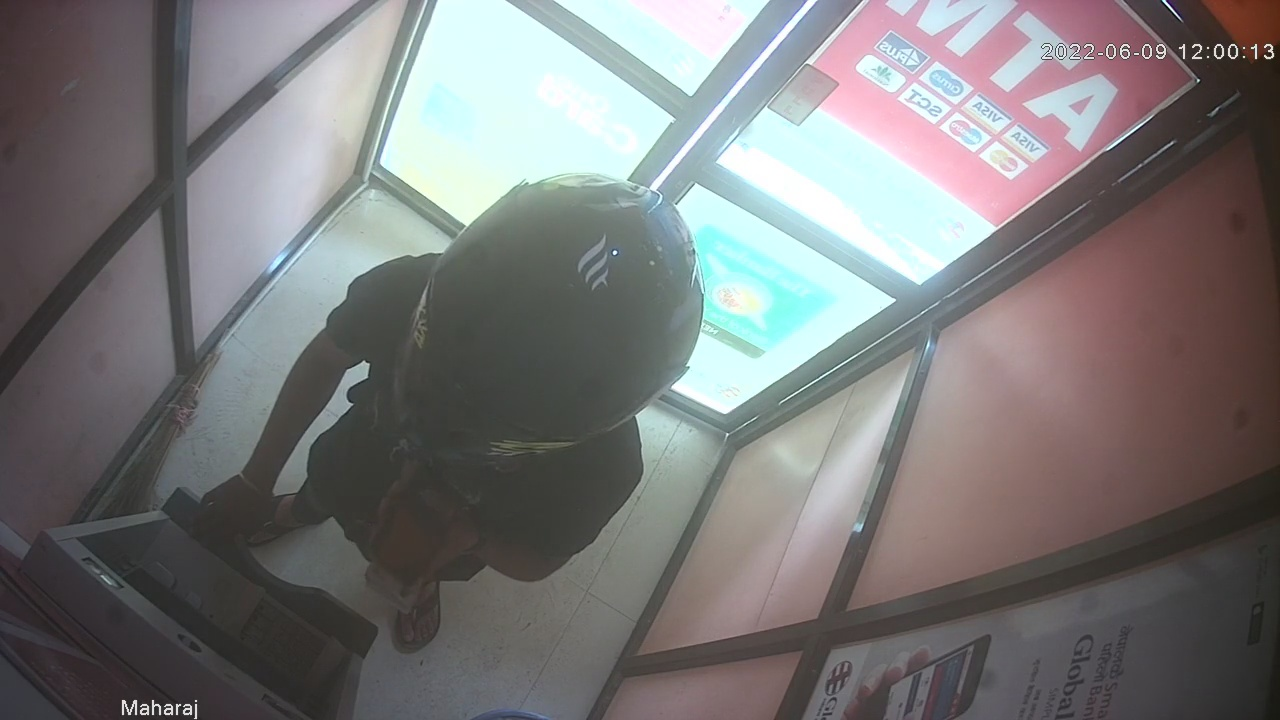helmet: (394, 169, 704, 473)
person: (186, 169, 706, 654)
